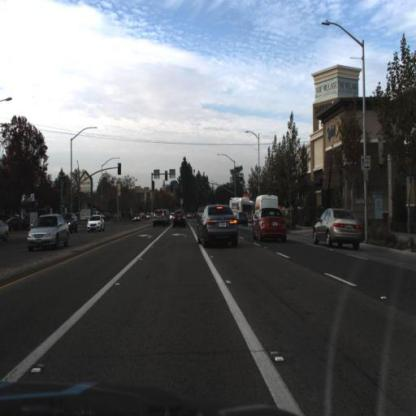car: (314, 209, 362, 249), (197, 204, 238, 250), (28, 217, 72, 251), (254, 208, 289, 245), (62, 213, 79, 238), (87, 214, 105, 234), (154, 209, 170, 228), (174, 211, 188, 228), (2, 221, 10, 242)
truck: (254, 195, 279, 231)
